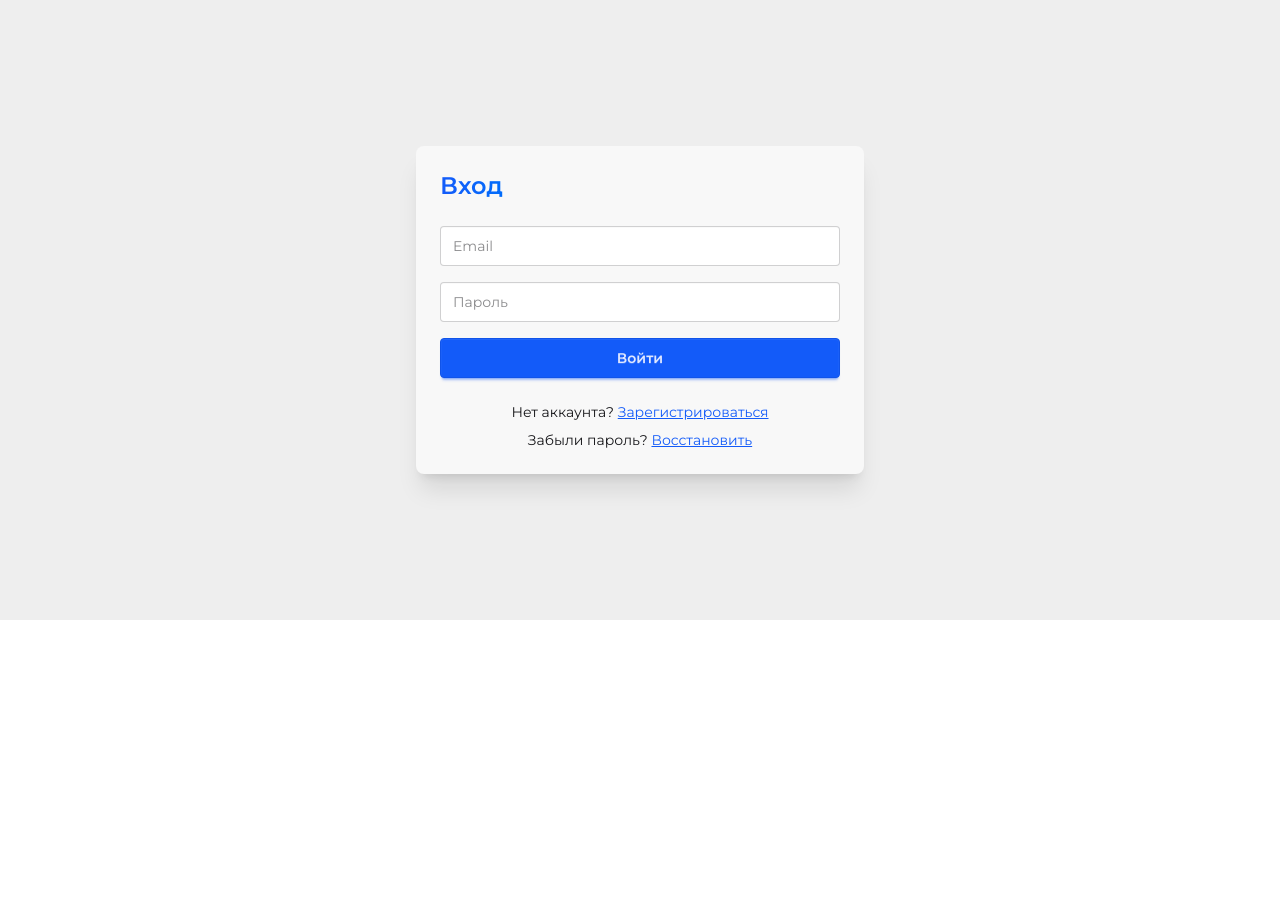
Test: LoginPage › LOGIN-02: подавляет backend-сообщение 401 и показывает locked-строку
Type "test@mail.ru" into the field with placeholder "Email" at coordinates (640, 246), box [440,226,840,266]
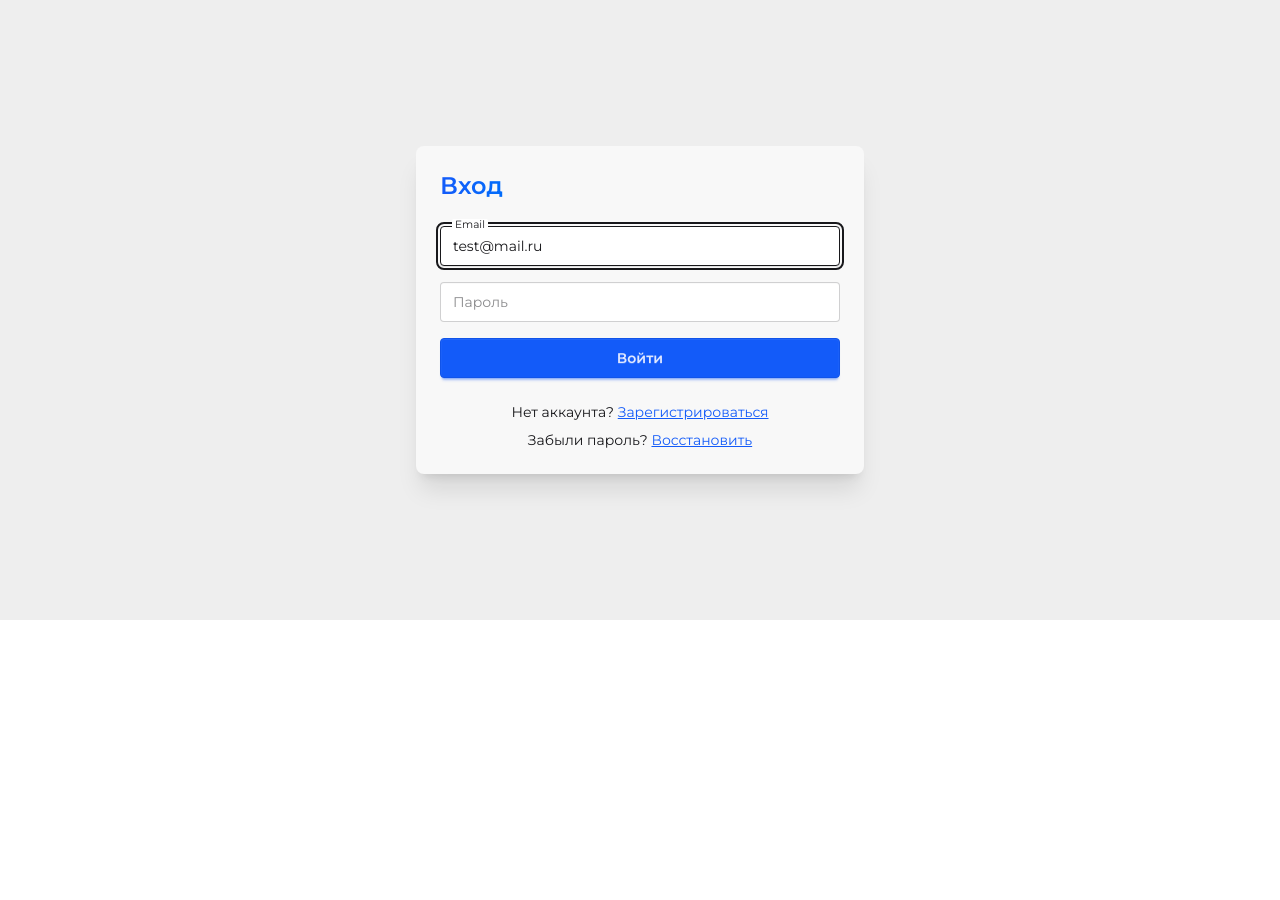
Type "password123" into the password field with placeholder "Пароль" at coordinates (640, 302), box [440,282,840,322]
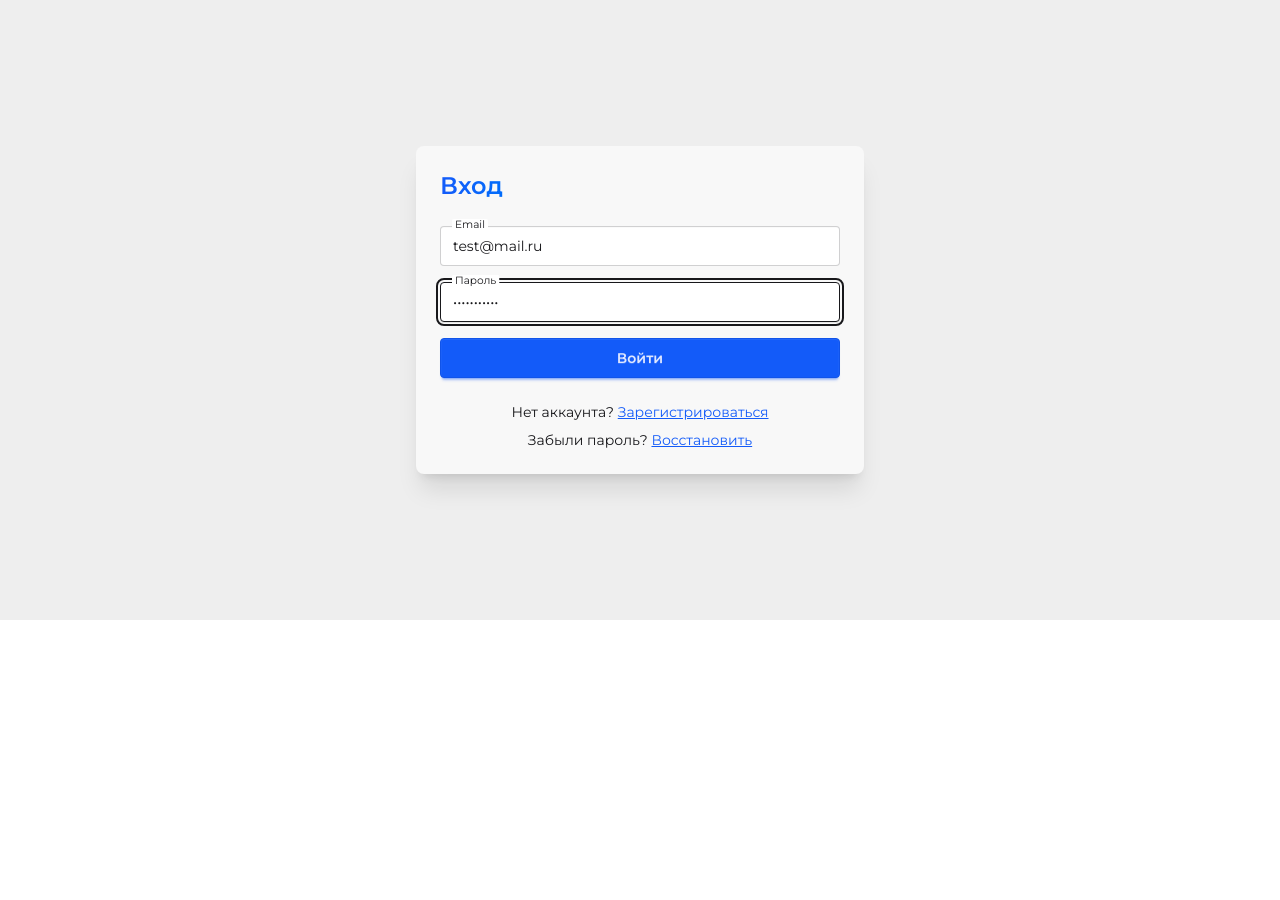
Click the button "Войти" at coordinates (640, 358), box [440,338,840,378]
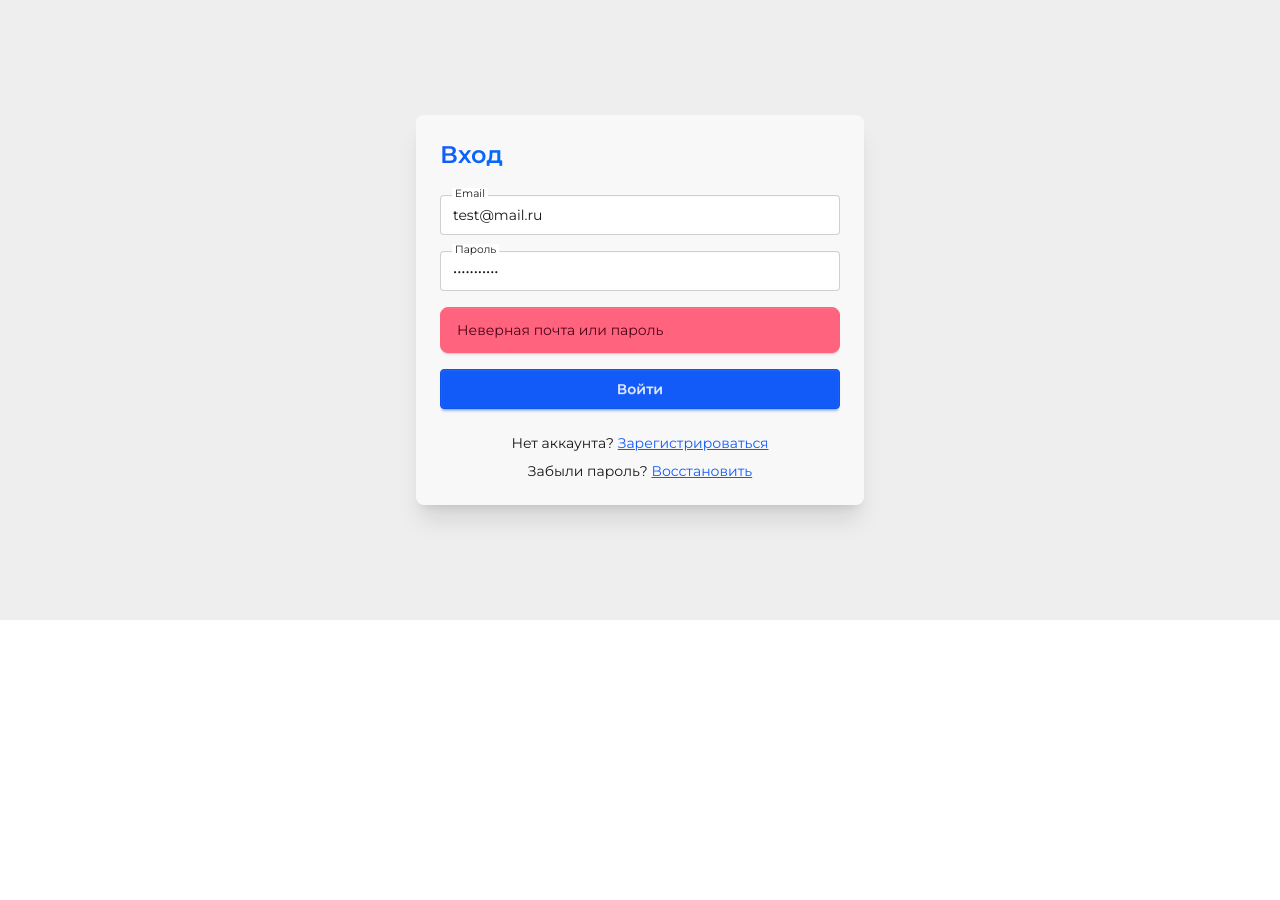
Expected: the text "Неверная почта или пароль" is shown, [440,307,840,353]
